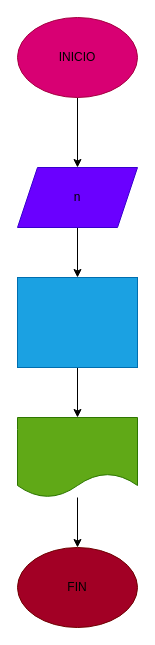
The diagram is 155 pixels wide and 645 high, and some of its shapes have lost their labels. Each missing label, with the box of its shape:
d1=(n%10)*1000 pe=n//10 d2=(pr%10)*100 pe=n//10 d3=(pe%10)*10 d4=pr//10: (16, 276, 138, 368)
ni: (16, 416, 138, 498)
